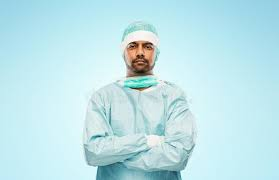Indian_Male: (127, 31, 159, 76)
